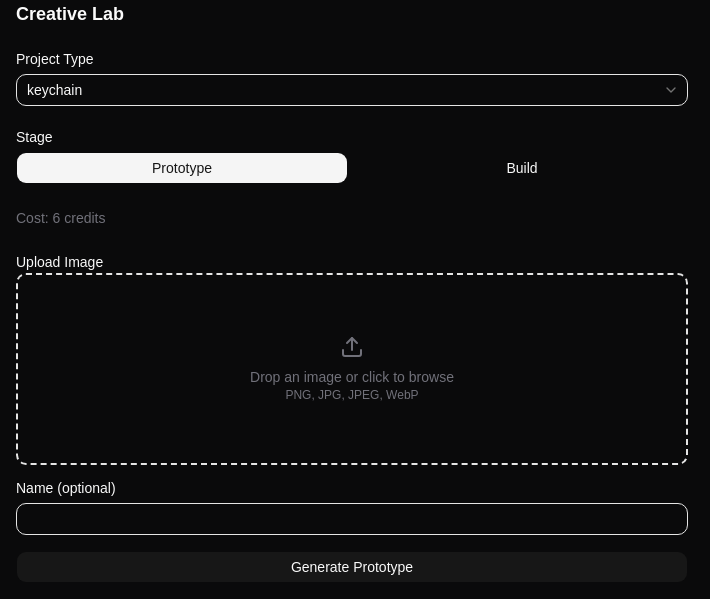
Test: CreativeLabPanel — TC-GEN-02 (Creative Lab) › TC-GEN-02-01: renders all 7 project types and prototype/build stage controls
Expected: the heading "Creative Lab" is shown, [16,4,124,24]
Expected: the button "Prototype" is shown, [16,152,348,184]
Click the dropdown named "Project Type" at [55, 90], box [16,74,688,106]
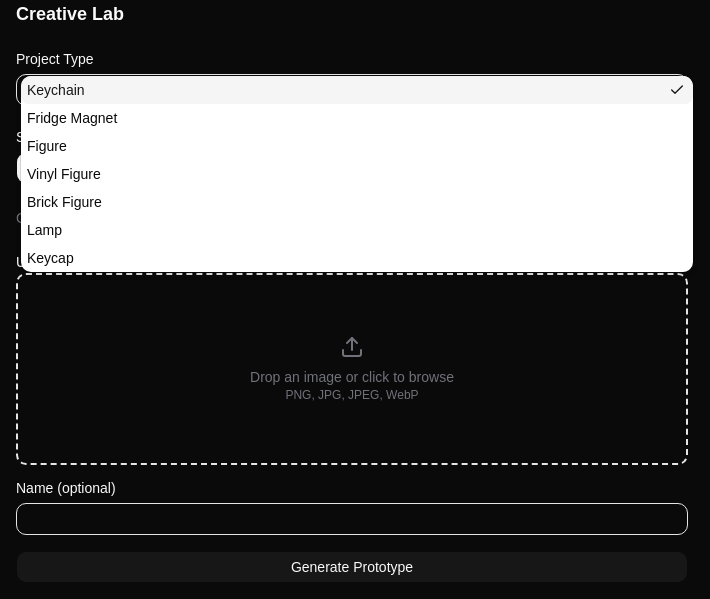
Expected: the text "Keychain" is shown, [27,82,85,98]
Expected: the text "Fridge Magnet" is shown, [27,110,117,126]
Expected: the text "Figure" is shown, [27,138,67,154]
